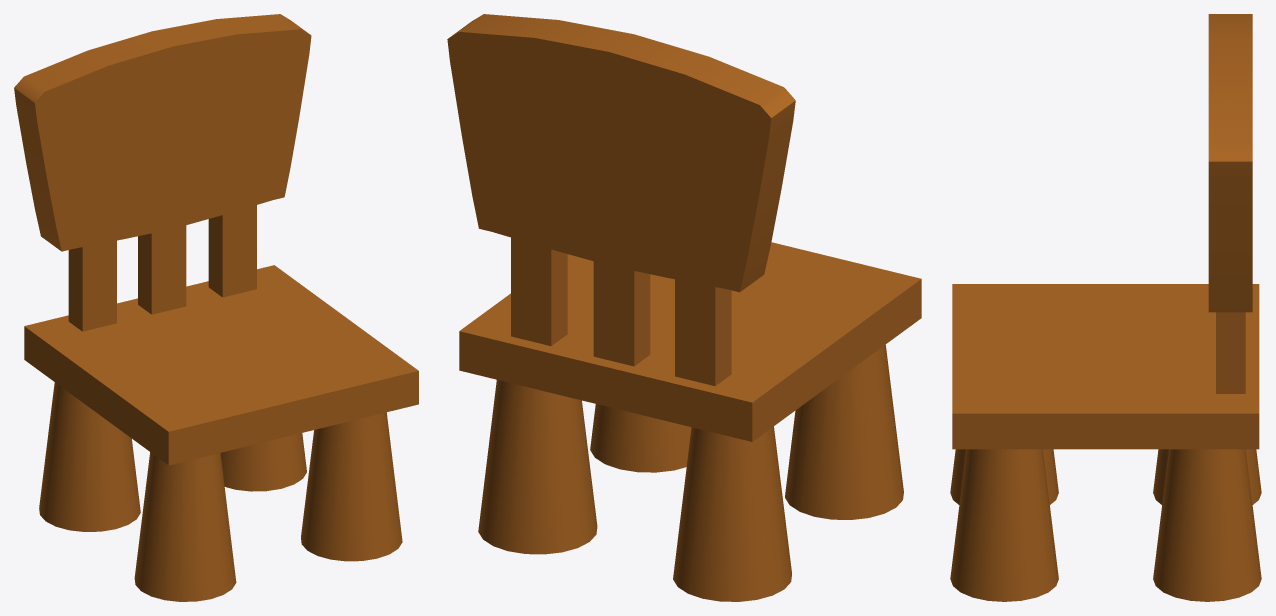
The model's file is Chair_Orange.glb.
The picture shows the model from 3 angles, left to right: view 1: azimuth 30°, elevation 25°; view 2: azimuth 150°, elevation 25°; view 3: azimuth 270°, elevation 25°; orthographic projection. The views are drawn at different scales.
Visible parts, largest first — view 1: chairHIGH; view 2: chairHIGH; view 3: chairHIGH.
Part boxes in pixels (x1,y1,x2,y2): chairHIGH: [14, 14, 418, 601]; chairHIGH: [447, 14, 921, 601]; chairHIGH: [950, 14, 1261, 601].
Bounding box in the file's own units: 2.54 × 3.89 × 2.33.
1 material, 1 textured.
